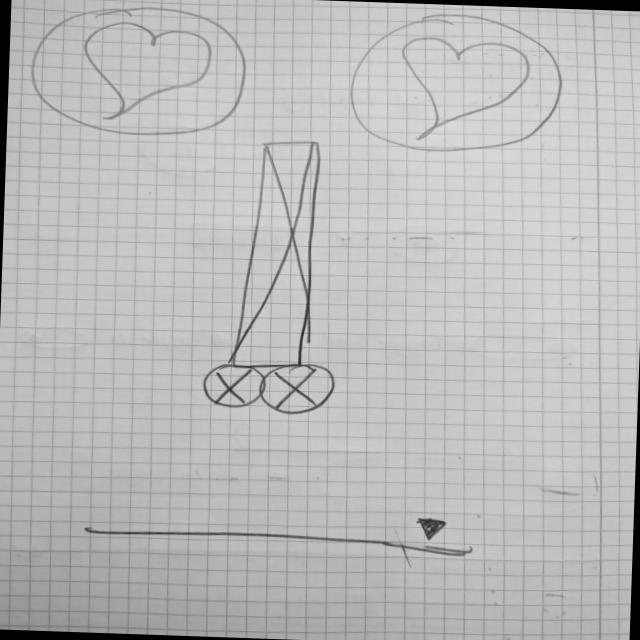icon-button: (346, 9, 566, 158), (25, 0, 252, 142)
image: (230, 136, 325, 370), (256, 362, 340, 417), (200, 362, 268, 408)
select: (77, 502, 474, 559)
